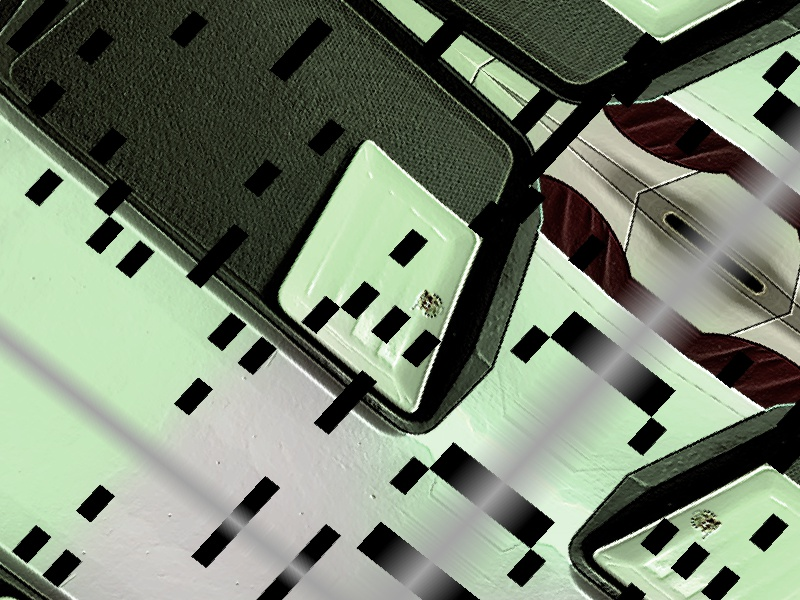dish4: (255, 128, 507, 425)
